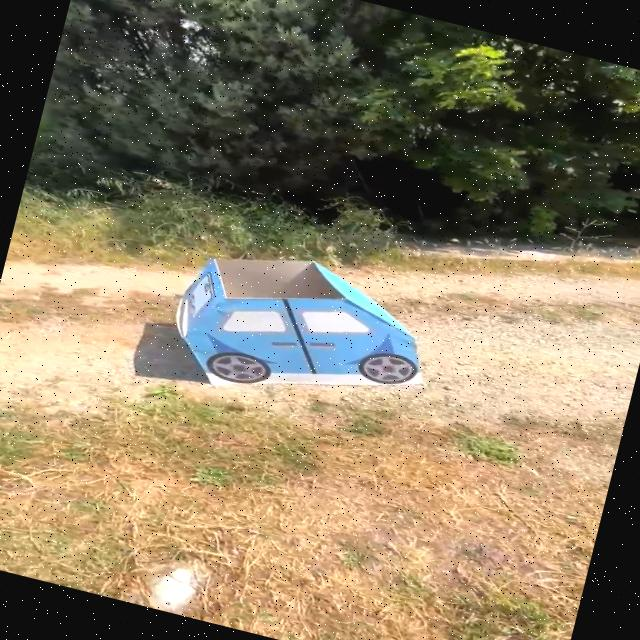blue_car: (123, 209, 461, 448)
